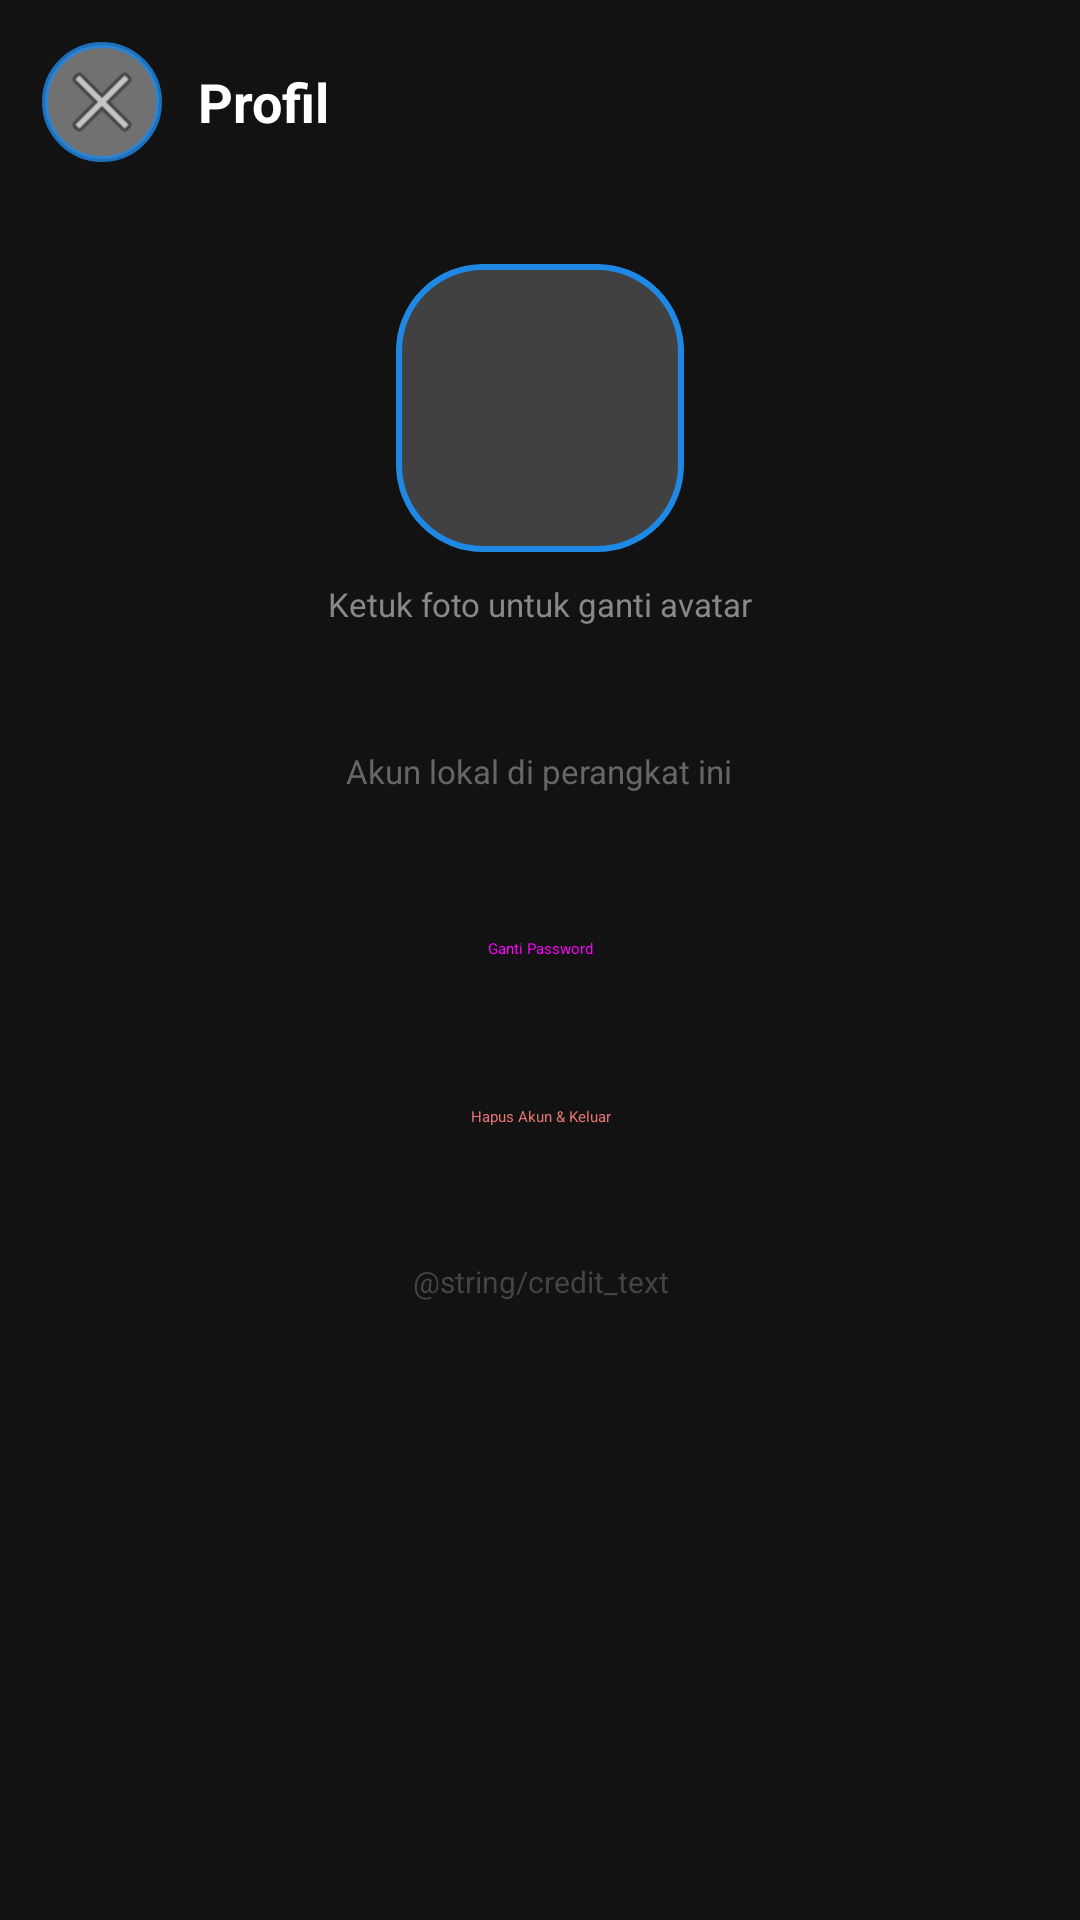

Point at icon controls on the screen. Image size 1080x1920, points as point (x, y).
Kembali: point (102, 102)
